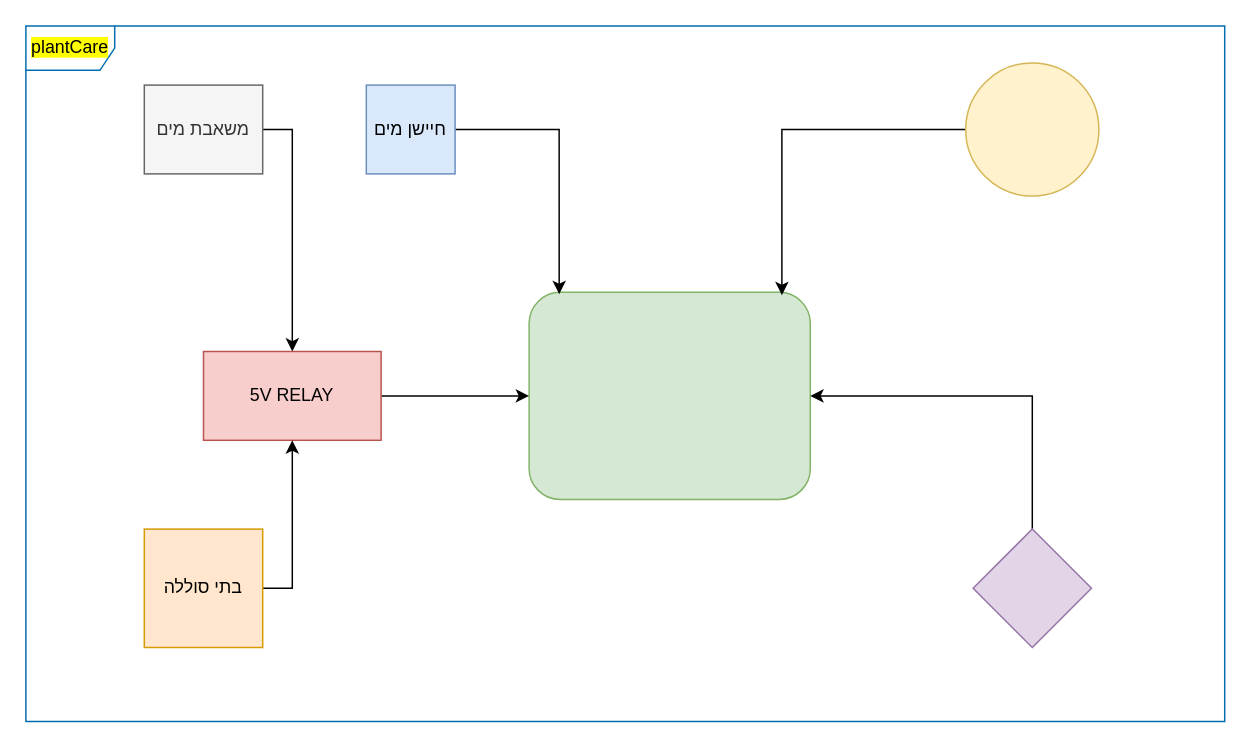
Image size: 1251x747. Some labels were removed from this diagram. The centre of each missing label's shape, as x and y in pixels:
בקר ארדואינו: point (669, 395)
חיישן לחות: point (1032, 588)
לדים ירוק, צהוב, אדום: point (1031, 128)
